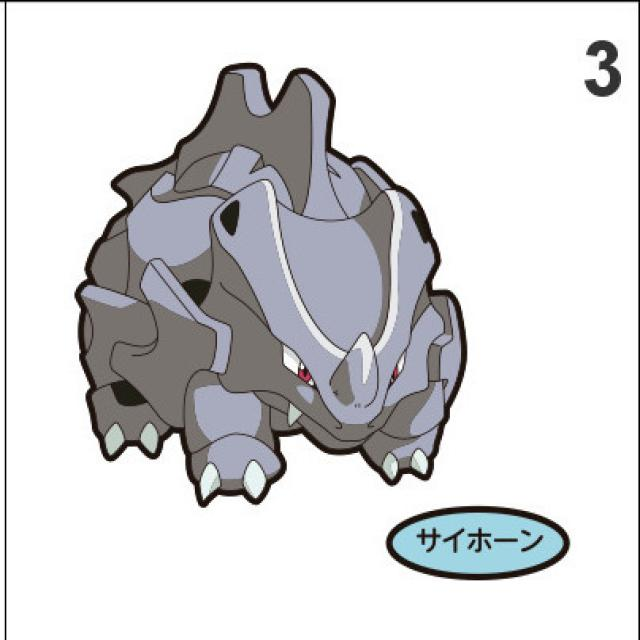Rhyhorn: (81, 66, 446, 482)
